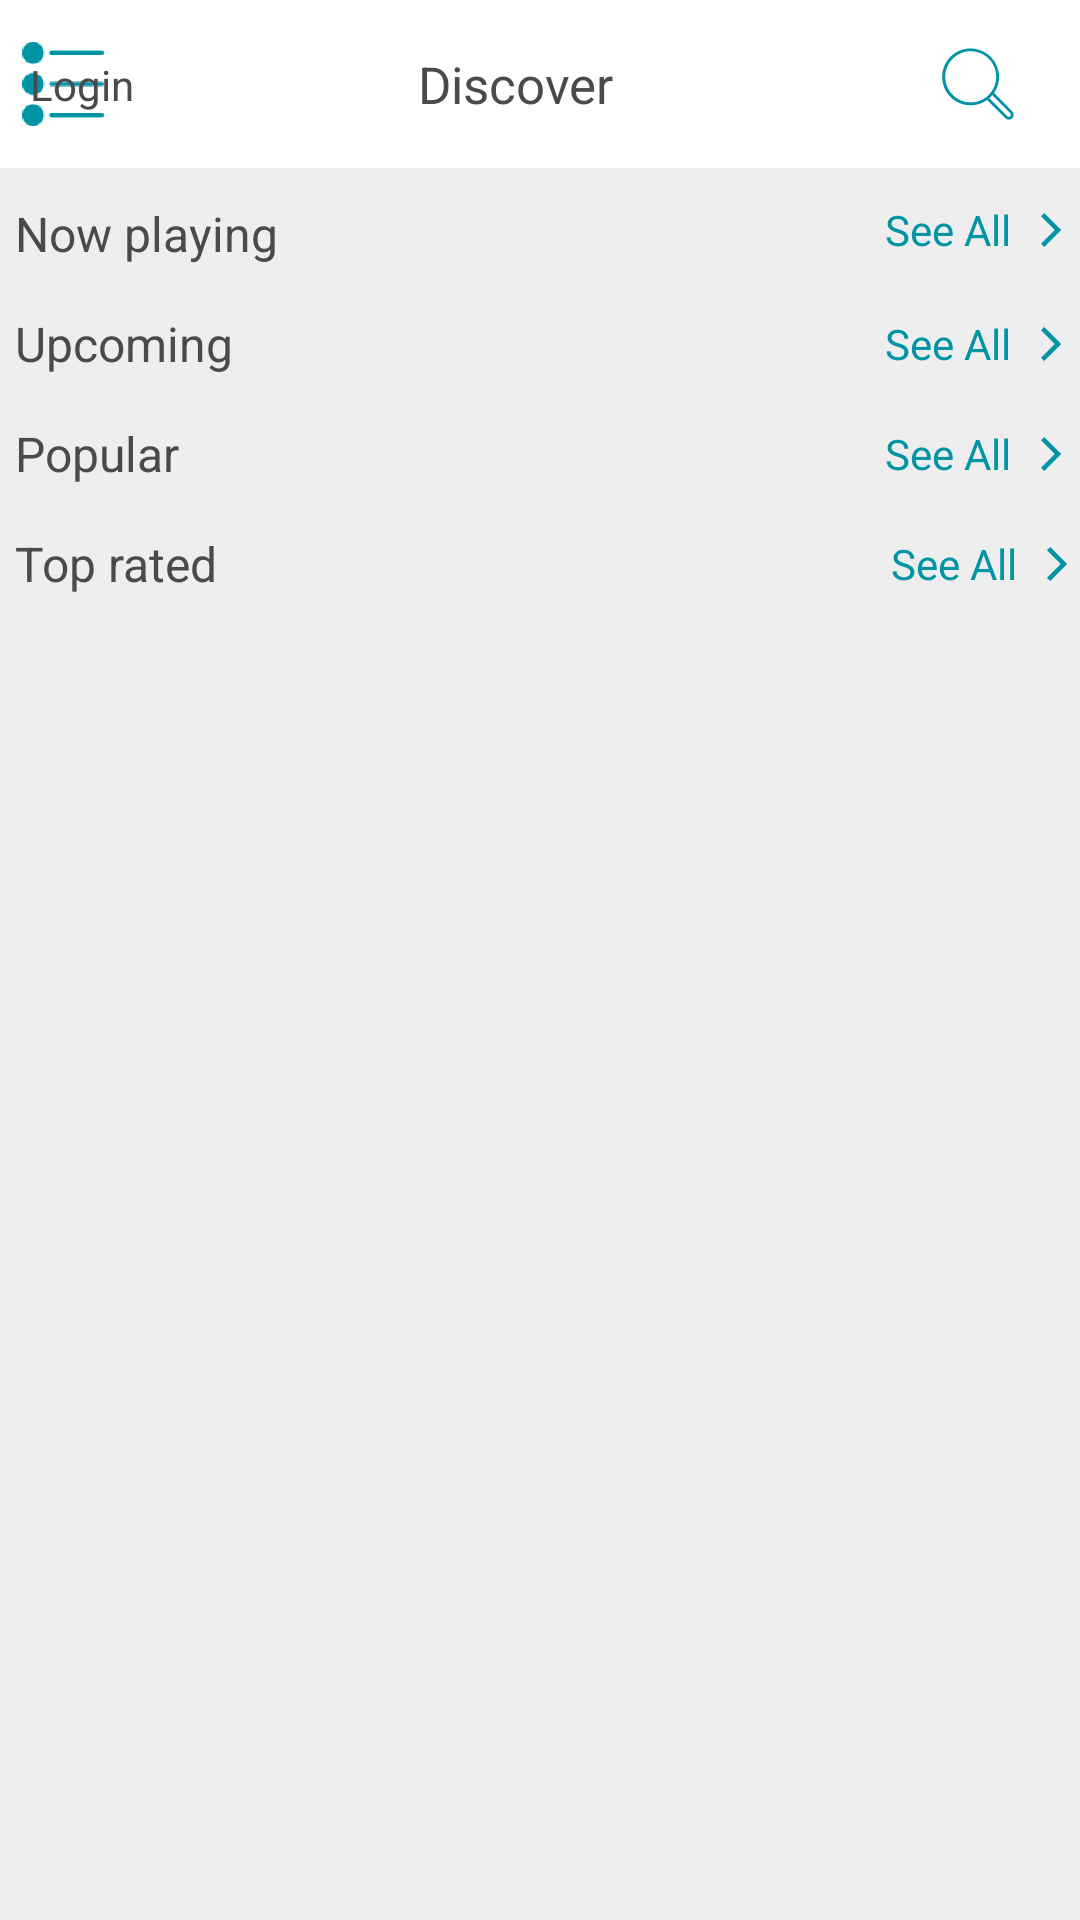

Screen size 1080*1920. Icon name, then its box in pixels as detection(x1, y1, x2, y2):
search: detection(942, 48, 1014, 120)
